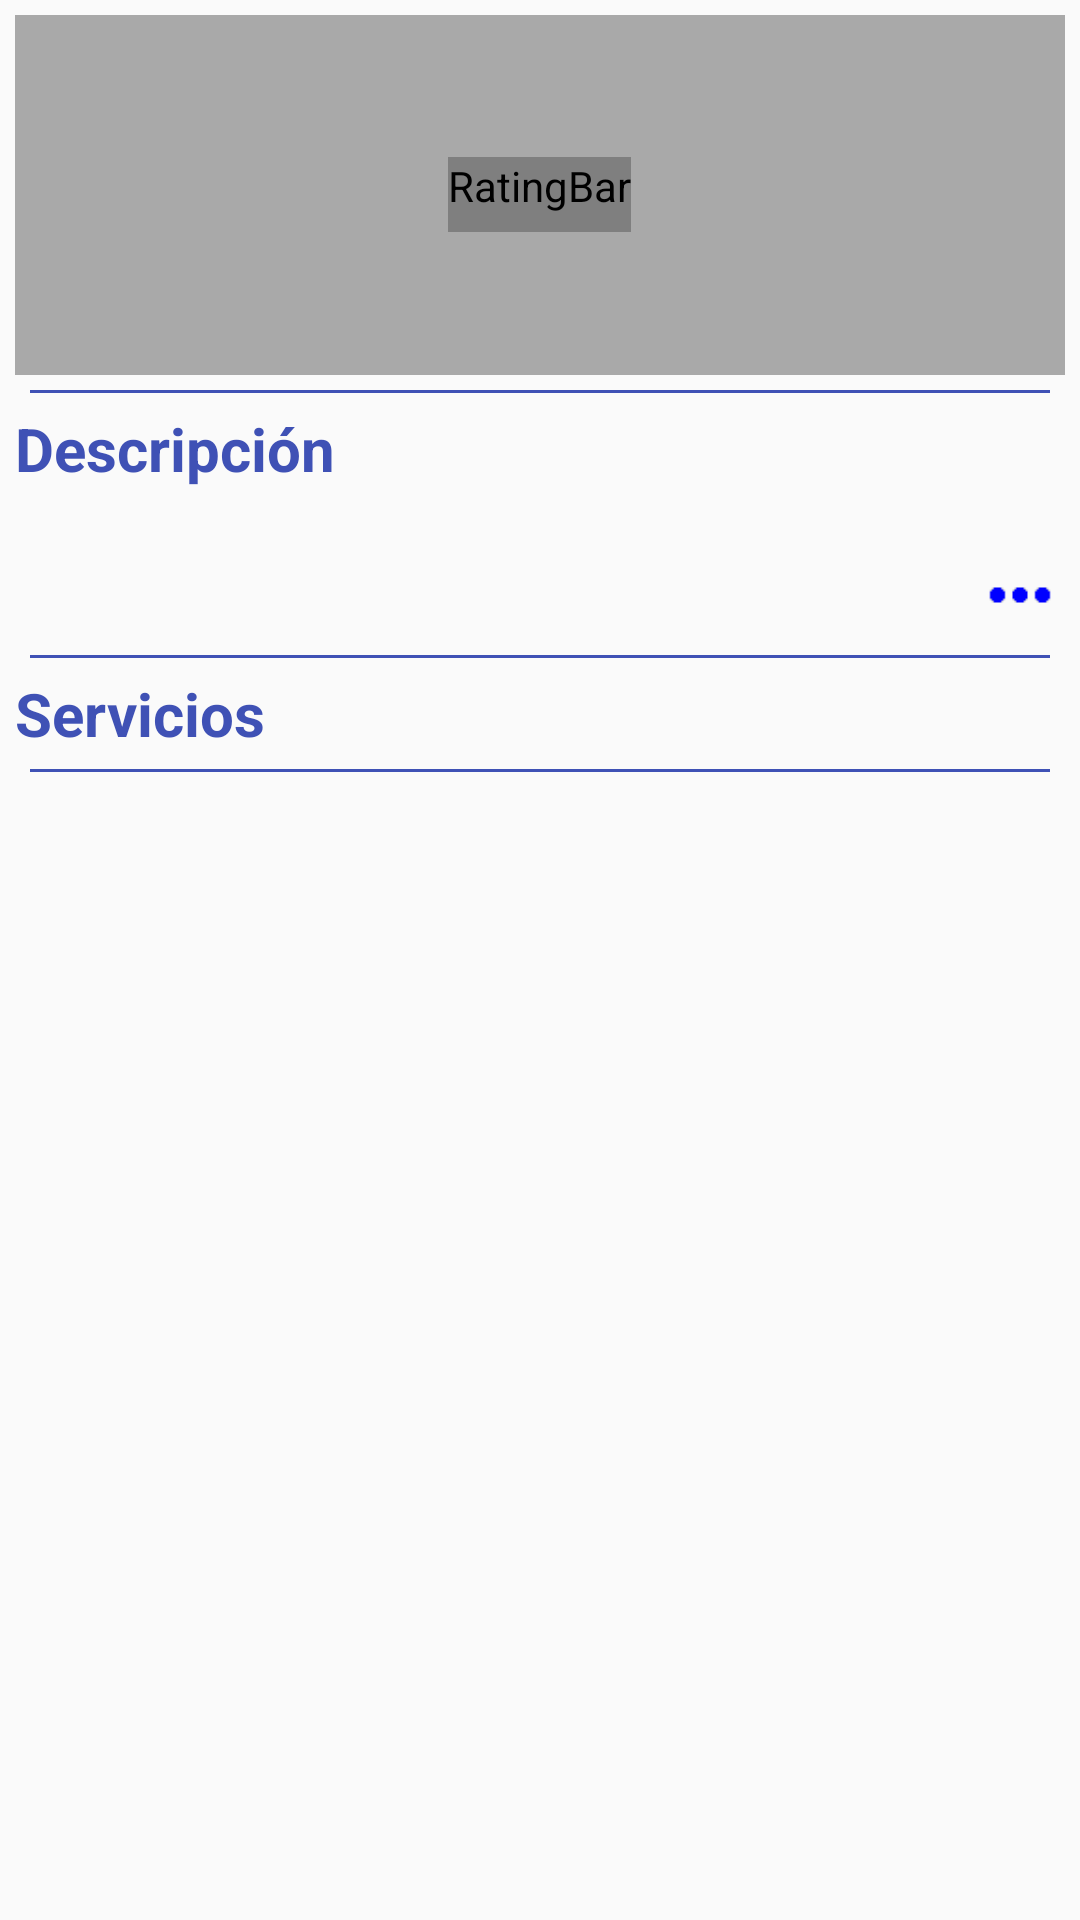

Where icons sit on this 1080 × 1920 app screen, as (x1, y1, x2, y2):
read more: (989, 587, 1051, 603)
